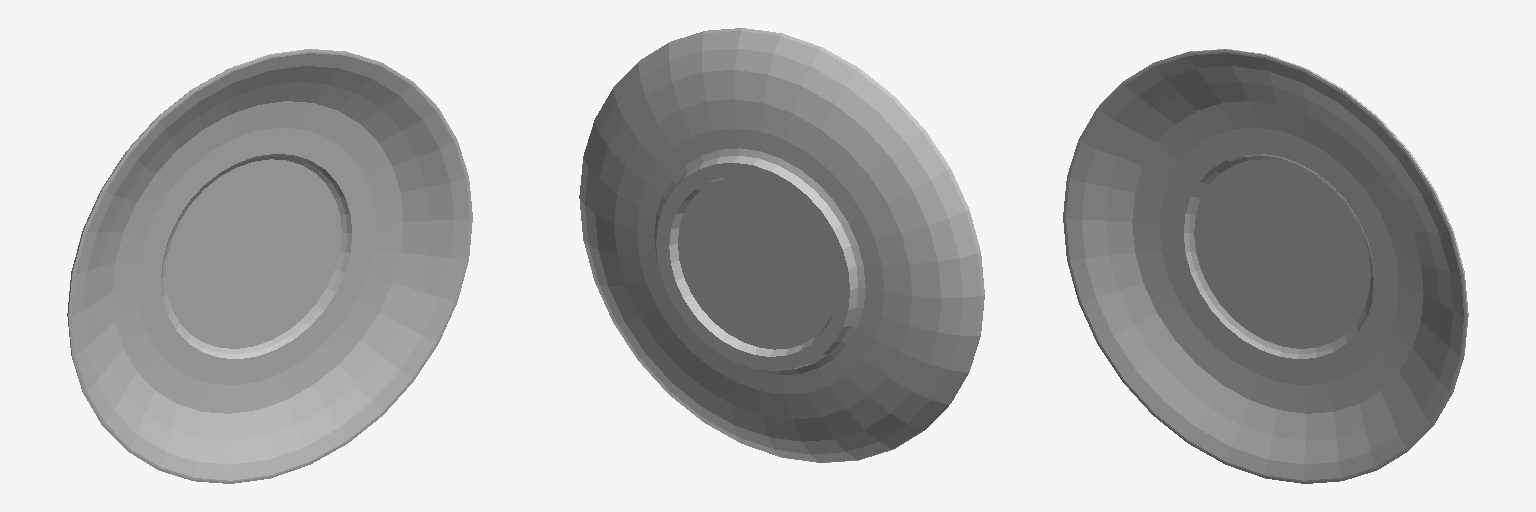
Rendered from coffee_plate.obj.
3 renders of one model, left to right at view 1: azimuth 30°, elevation 25°; view 2: azimuth 150°, elevation 25°; view 3: azimuth 330°, elevation 25°, orthographic.
Parts seen in each view (by area): view 1: Coffee_cup_withe_saucer; view 2: Coffee_cup_withe_saucer; view 3: Coffee_cup_withe_saucer.
Boxes of the visible parts, <box> form: Coffee_cup_withe_saucer: <box>67,49,472,483</box>; Coffee_cup_withe_saucer: <box>579,28,984,462</box>; Coffee_cup_withe_saucer: <box>1063,49,1468,483</box>.
Size of the model in its own units: 13.2 by 13.2 by 1.68.